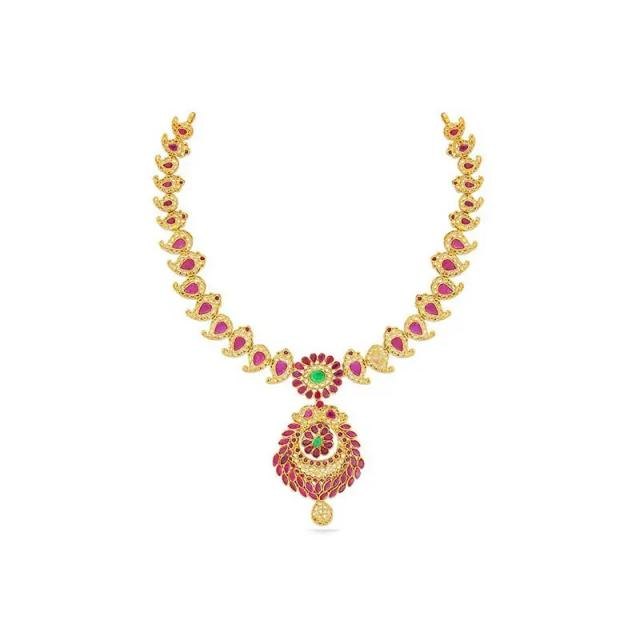missing gem: (371, 350, 385, 366)
